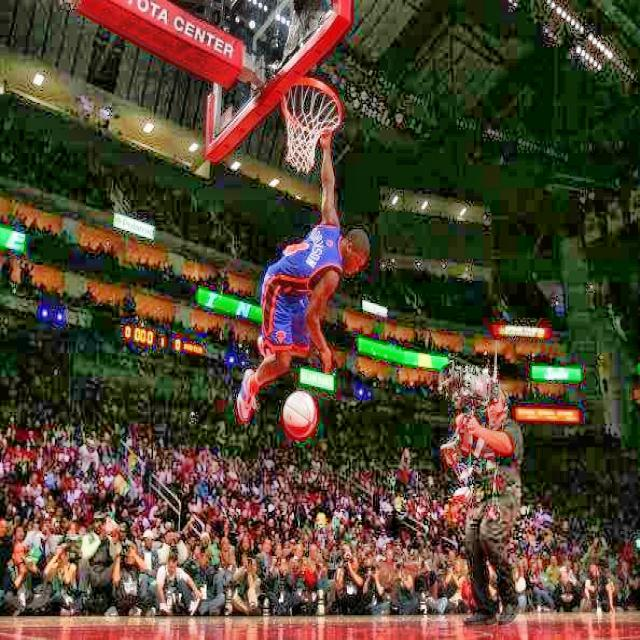board: (283, 391, 318, 439)
rim: (283, 78, 342, 171)
